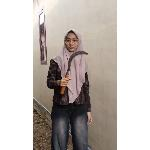Celurit: (56, 47, 92, 99)
